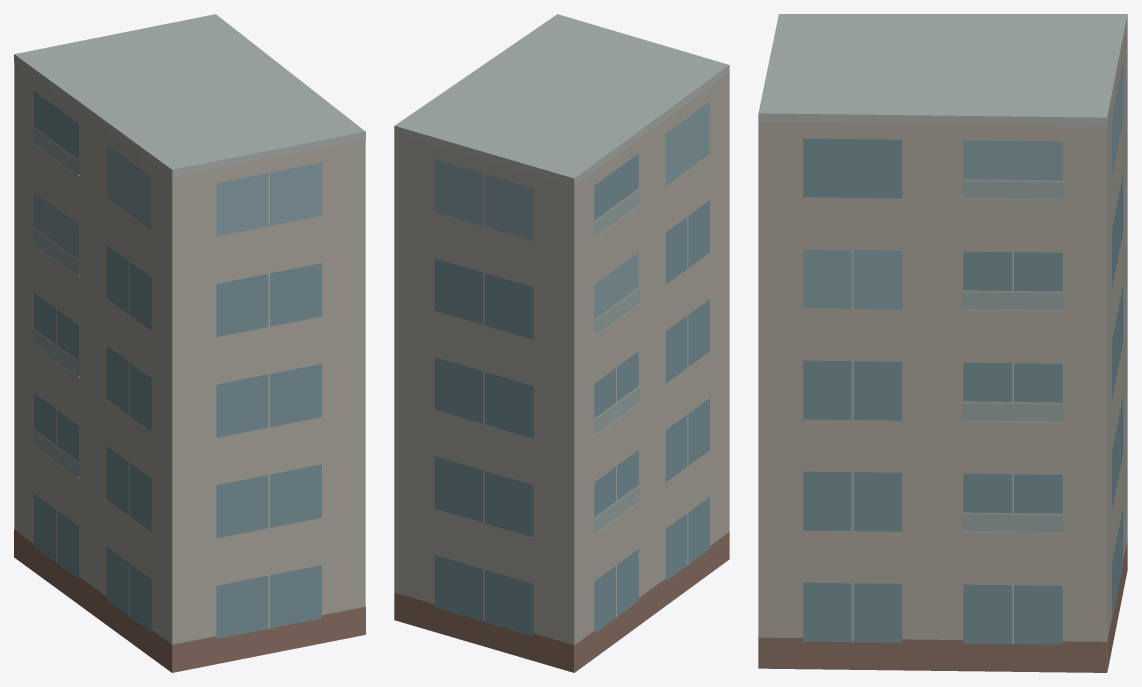
The model's file is survey-upis-32834862.glb.
The picture shows the model from 3 angles, left to right: view 1: azimuth 30°, elevation 25°; view 2: azimuth 150°, elevation 25°; view 3: azimuth 270°, elevation 25°; orthographic projection. The views are drawn at different scales.
Visible parts, largest first — view 1: survey-upis-32834862.tmp; view 2: survey-upis-32834862.tmp; view 3: survey-upis-32834862.tmp.
Boxes of the visible parts, x1=… form: survey-upis-32834862.tmp: x1=14, y1=14, x2=365, y2=672; survey-upis-32834862.tmp: x1=394, y1=14, x2=729, y2=672; survey-upis-32834862.tmp: x1=758, y1=14, x2=1127, y2=672.
Size of the model in its own units: 6.19 by 15.35 by 9.26.
